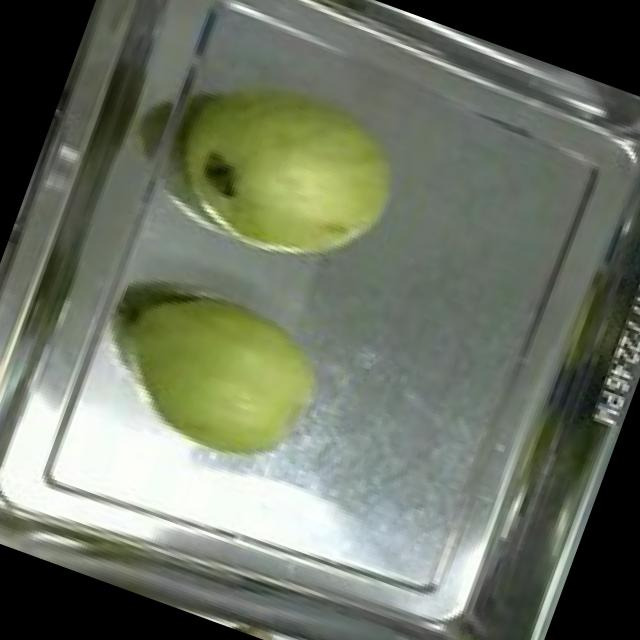Fruit: (142, 38, 431, 302), (80, 254, 350, 493)
